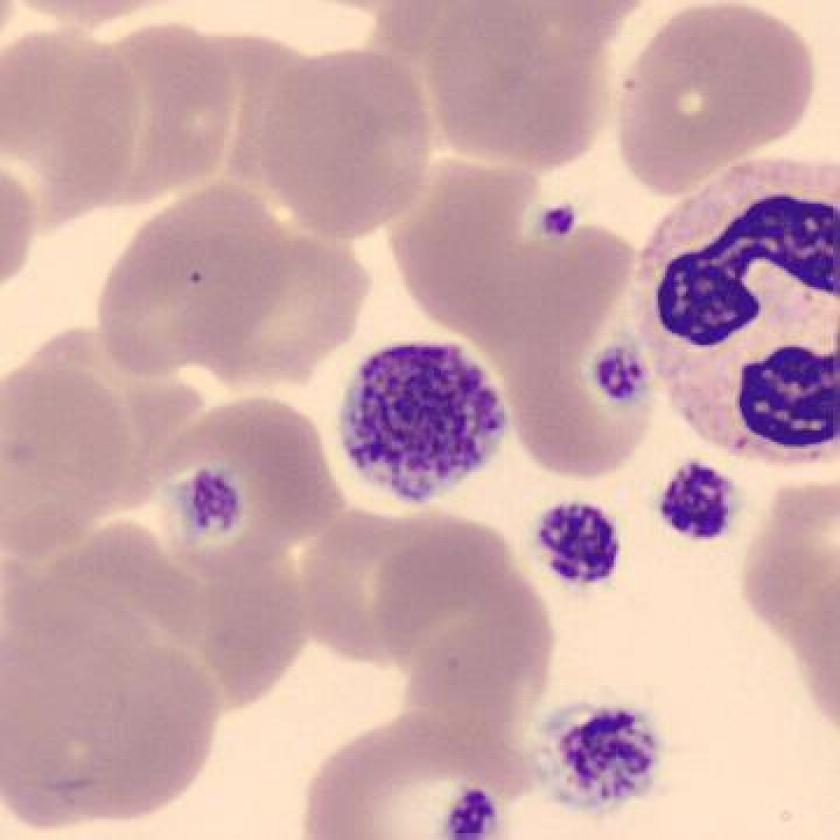neutrophil: (628, 156, 840, 473)
platelets: (339, 337, 512, 513), (540, 702, 671, 823), (650, 452, 748, 552), (533, 496, 633, 589), (587, 336, 661, 413), (178, 464, 246, 540), (437, 788, 512, 840), (535, 195, 582, 244)
